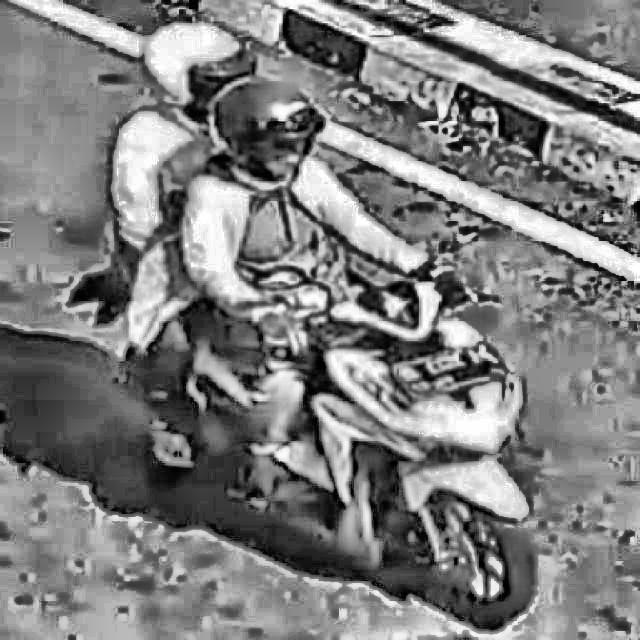motorcycle: (72, 222, 566, 633)
